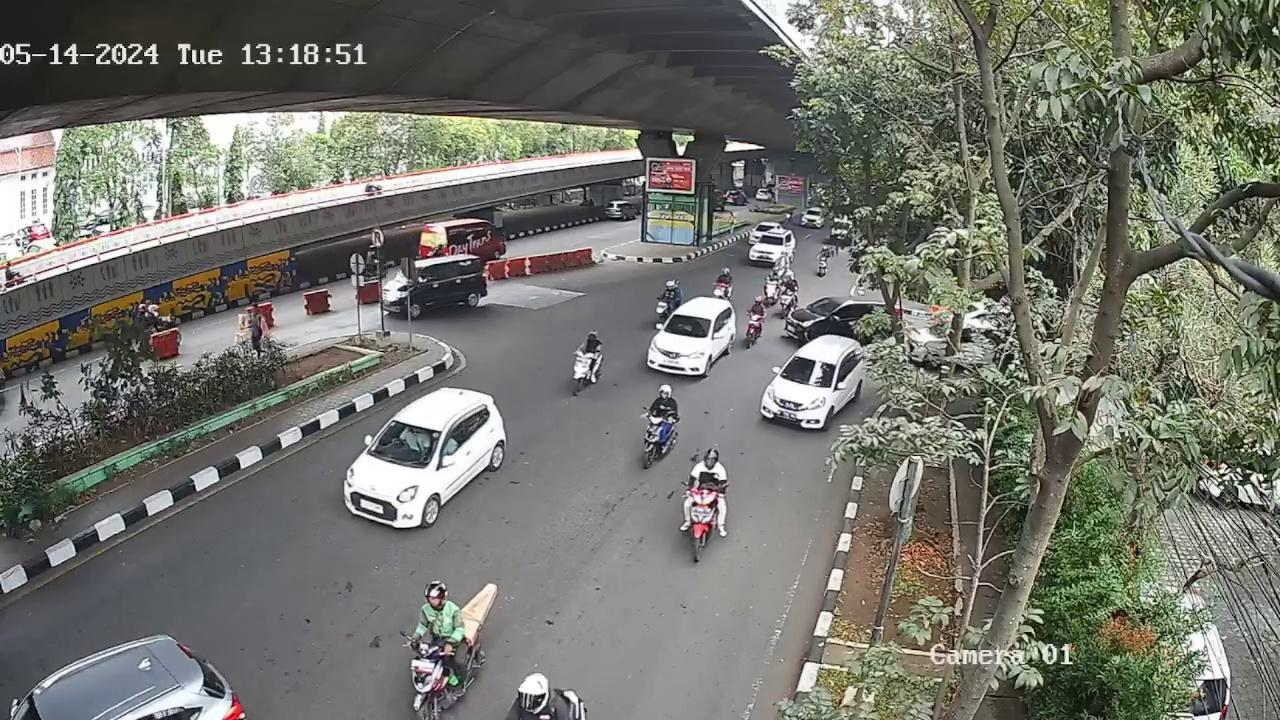pakai: (400, 429, 426, 458)
windshield: (376, 420, 441, 470), (777, 349, 837, 391), (666, 312, 709, 335)
